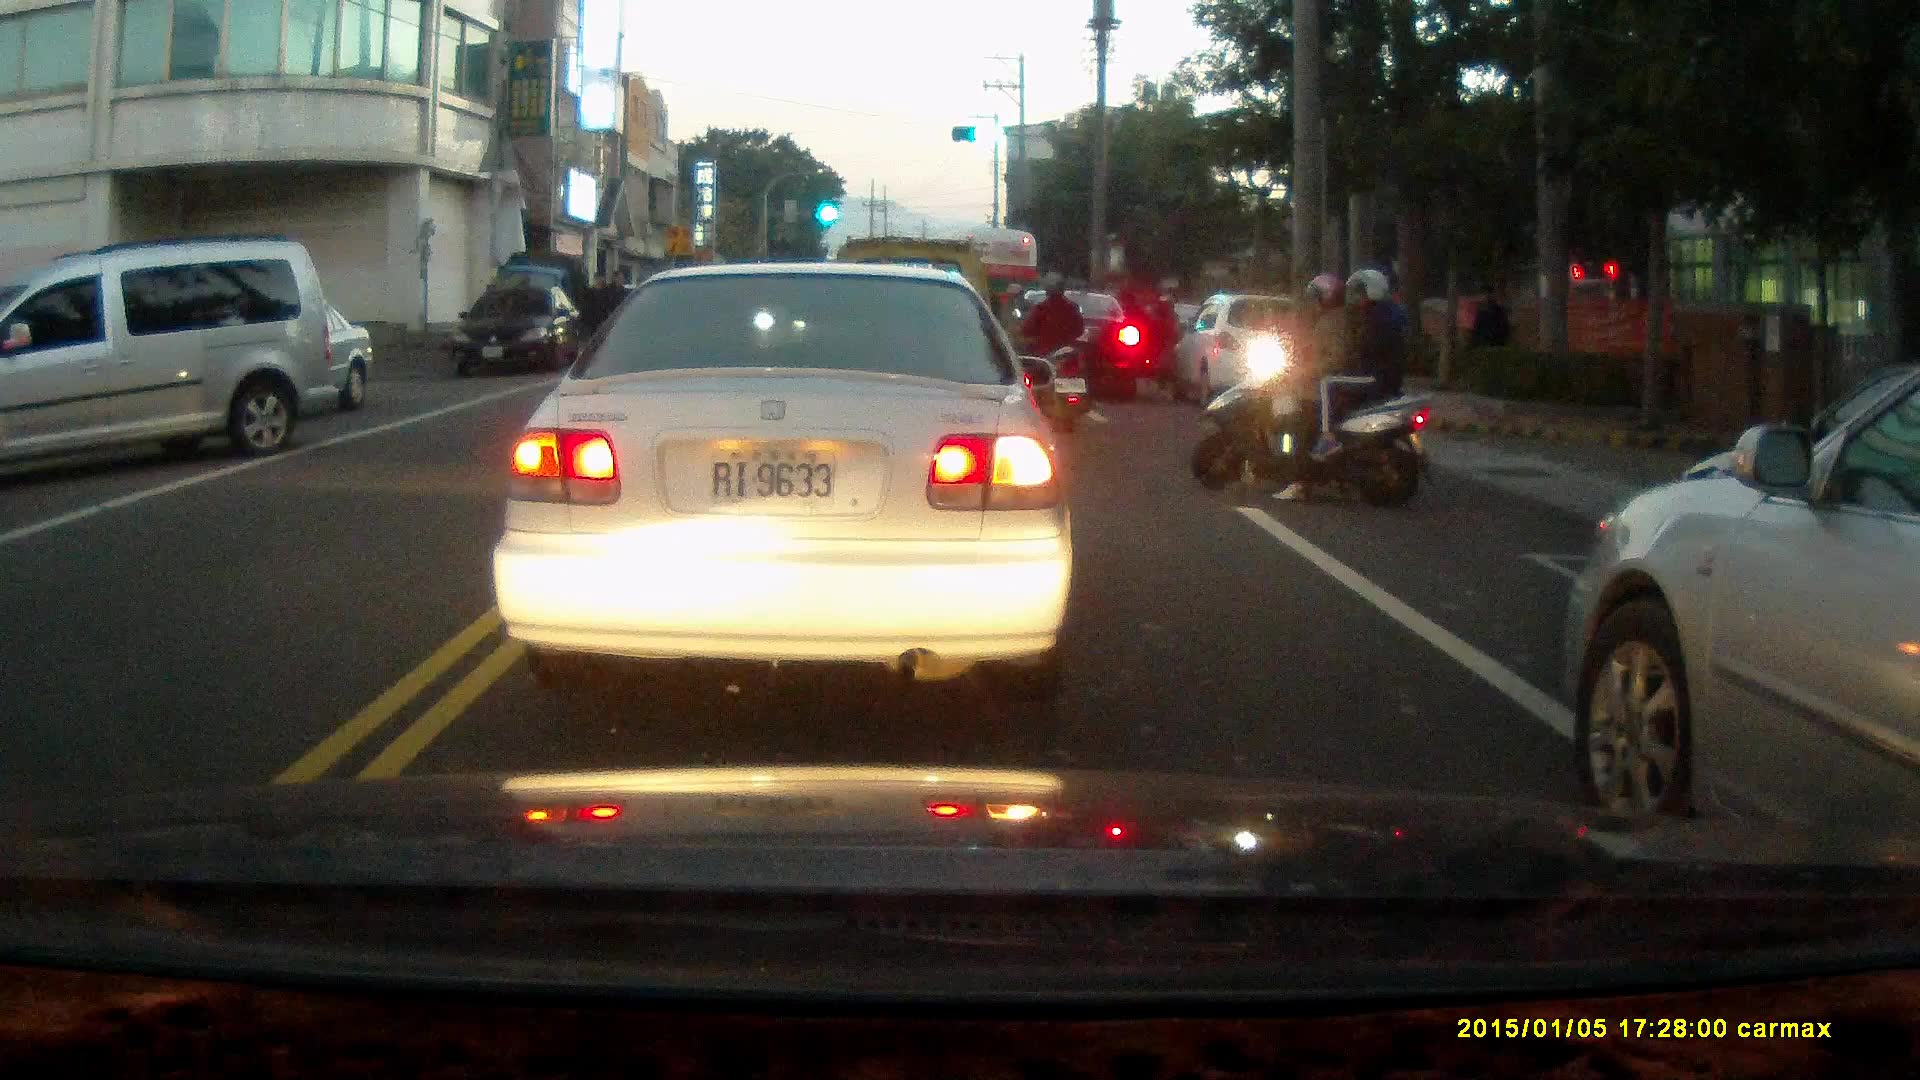pedestrian: (1463, 281, 1509, 380), (577, 272, 612, 368)
rider: (1193, 269, 1437, 511), (1013, 268, 1088, 434), (1146, 293, 1182, 390)
vehicle: (495, 259, 1079, 695), (1565, 353, 1919, 853), (1, 243, 345, 481), (1174, 294, 1323, 409), (1007, 289, 1143, 400), (453, 284, 584, 381)
